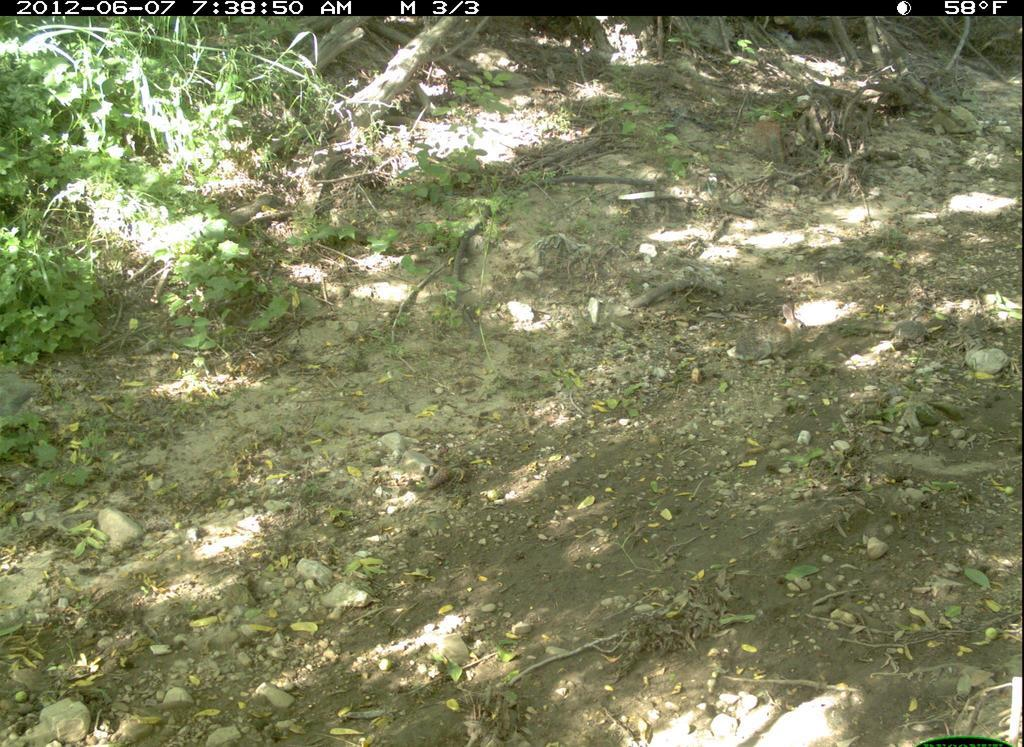rabbit: (718, 294, 813, 370)
